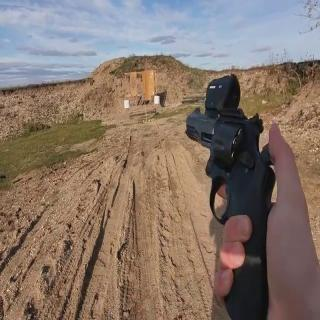gun: (171, 80, 311, 317)
